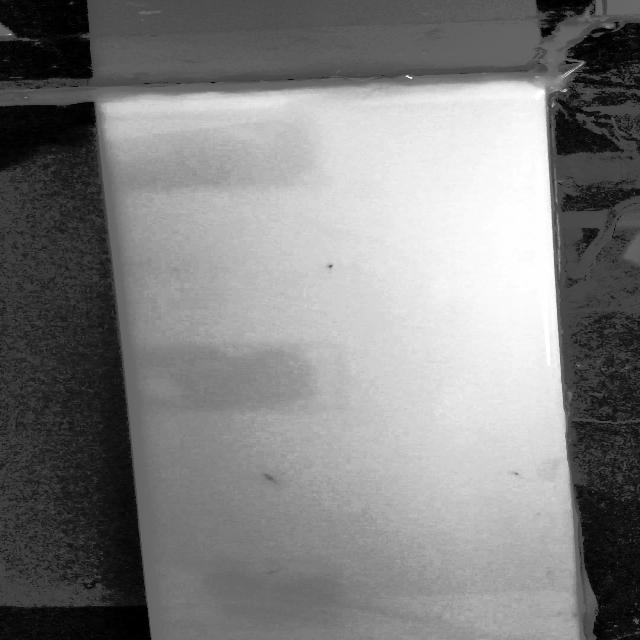shrimp: (254, 471, 287, 488), (310, 259, 344, 271)
